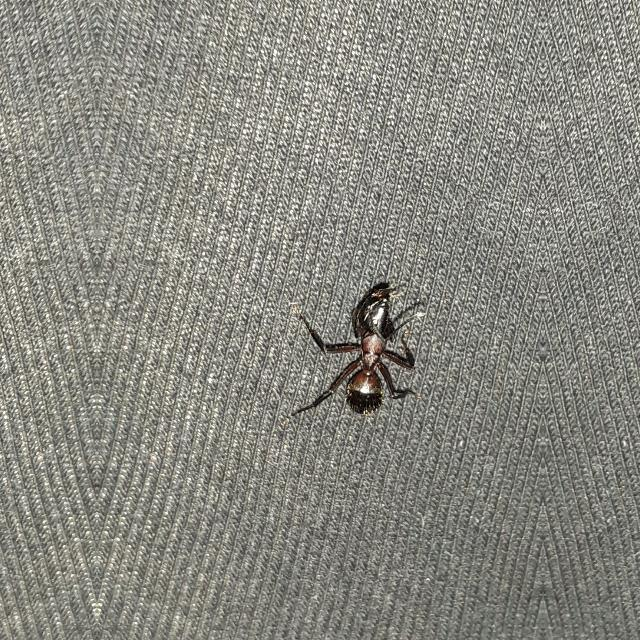Camponotus: (317, 261, 425, 443)
